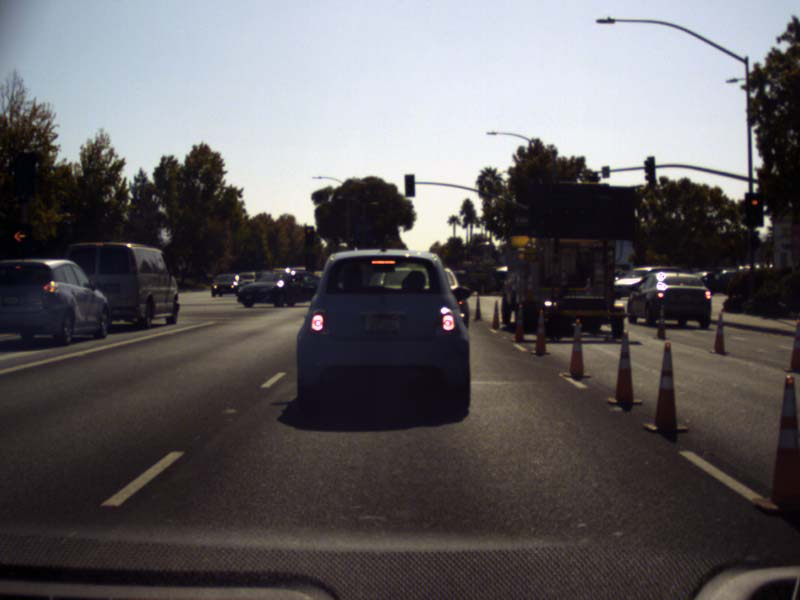Red: (9, 223, 30, 265), (744, 194, 763, 226), (305, 226, 313, 246)
